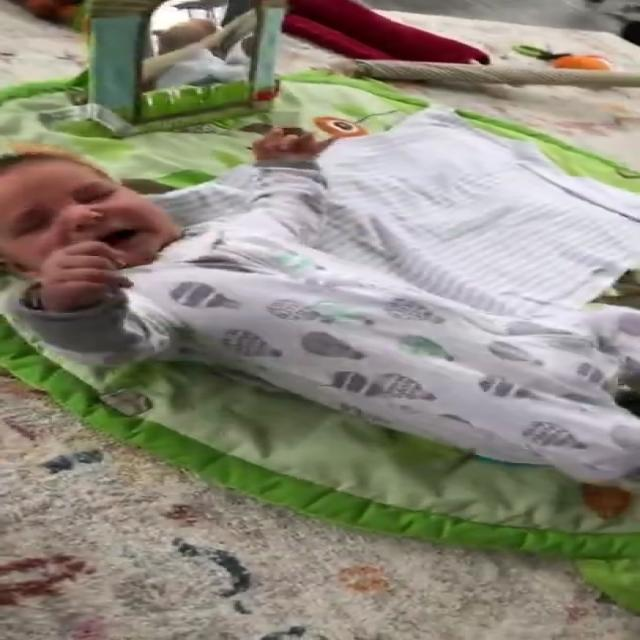baby: (0, 127, 640, 493)
